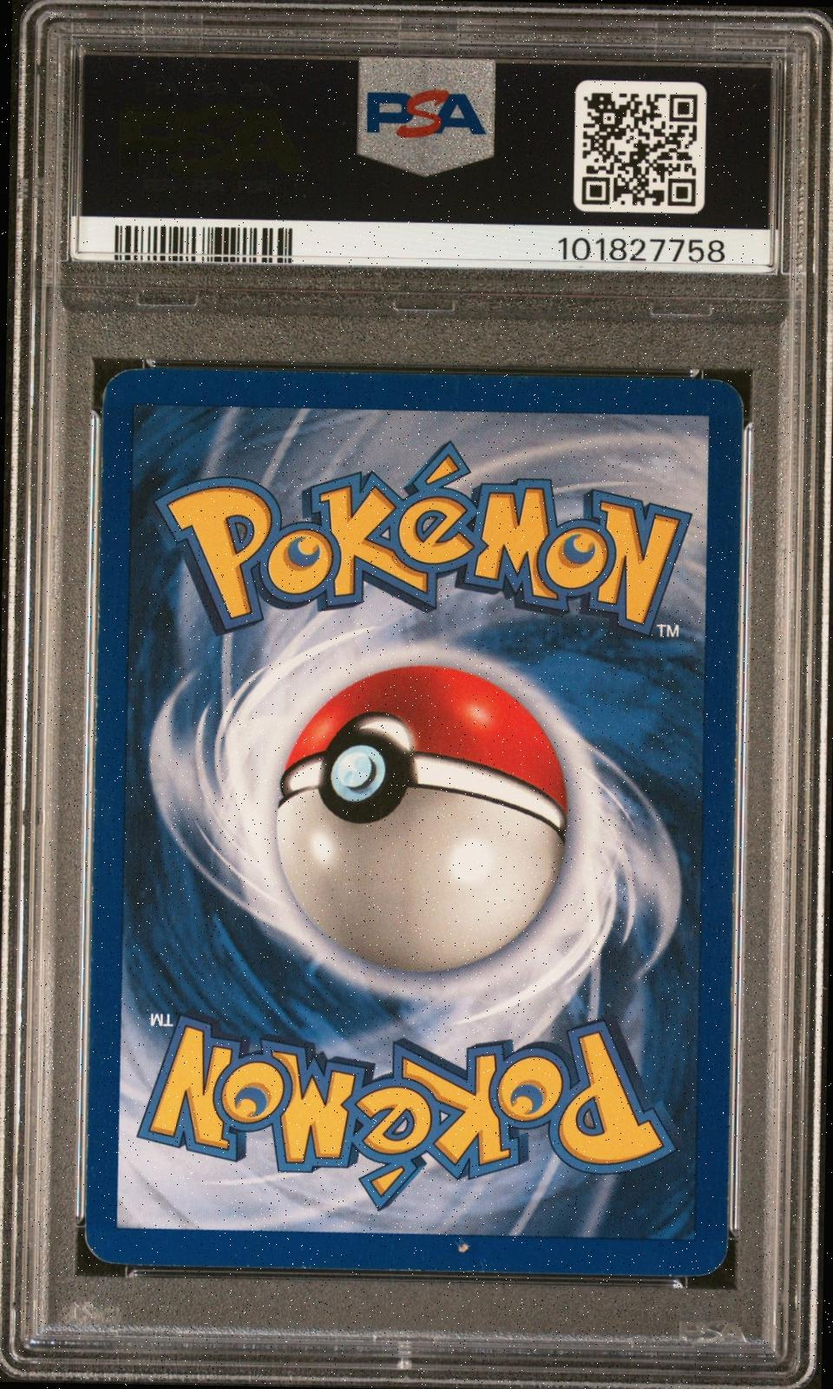card-2UtV: (84, 368, 744, 1277)
